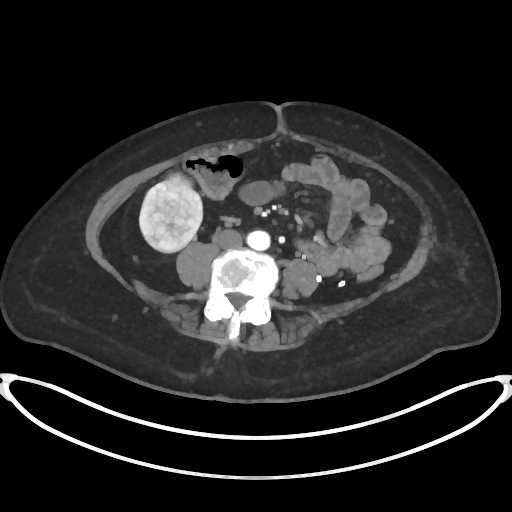Lesion: (140, 181, 205, 258)
